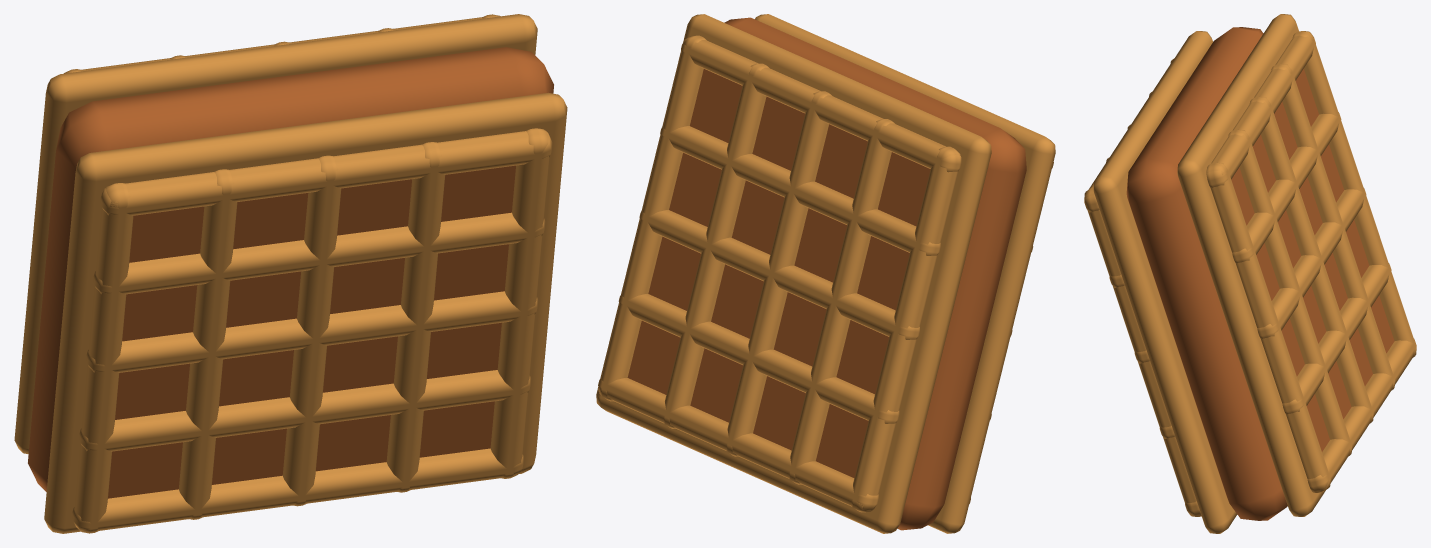
The model's file is waffle.glb.
3 renders of one model, left to right at view 1: azimuth 30°, elevation 25°; view 2: azimuth 150°, elevation 25°; view 3: azimuth 270°, elevation 25°, orthographic. The views are drawn at different scales.
Visible parts, largest first — view 1: waffle; view 2: waffle; view 3: waffle.
Part boxes in pixels (left/top/right/bottom): waffle: left=14, top=14, right=567, bottom=533; waffle: left=596, top=14, right=1055, bottom=533; waffle: left=1084, top=14, right=1416, bottom=533.
Bounding box in the file's own units: 0.8893 × 0.8304 × 0.6703.
